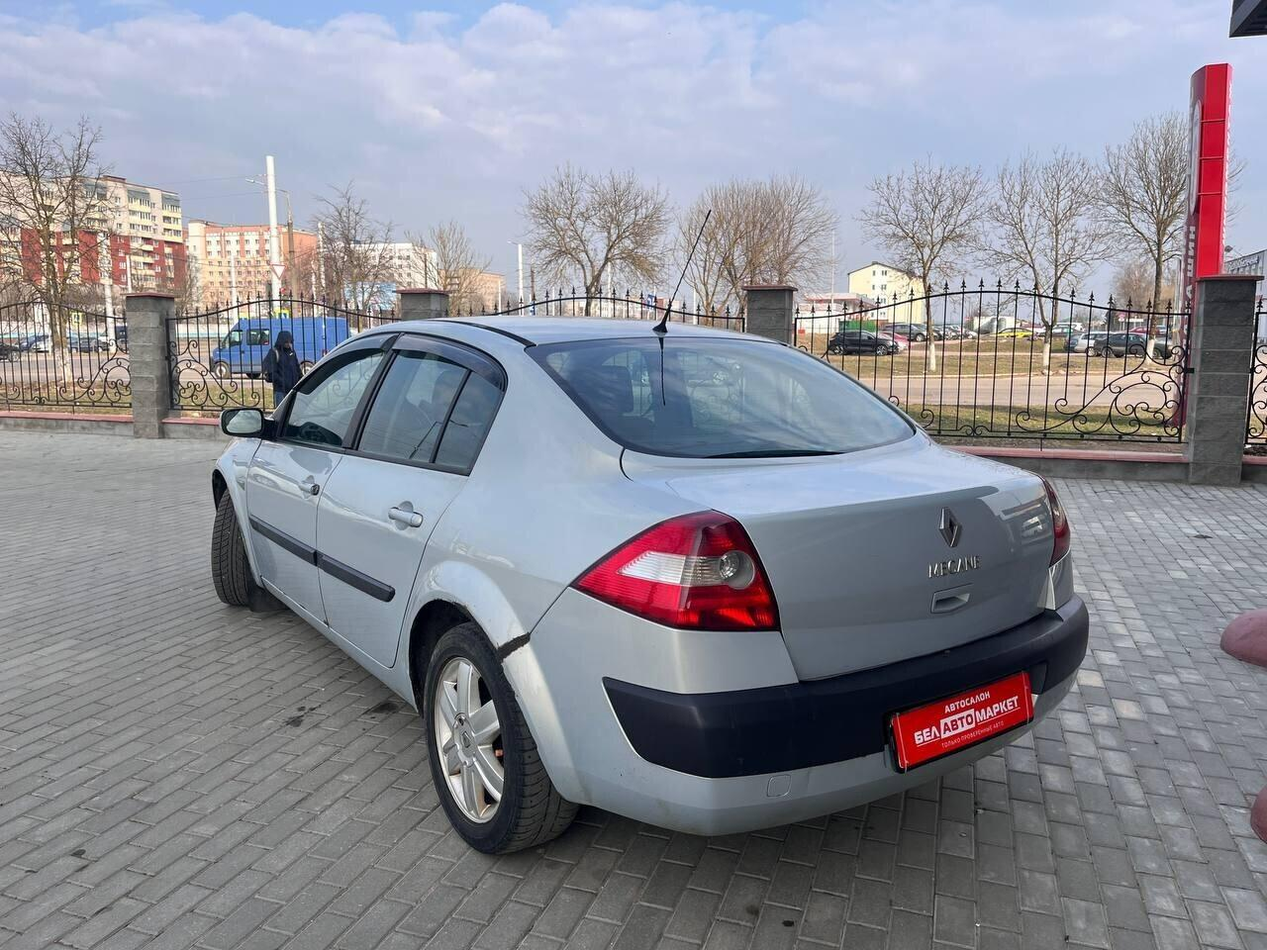Megane_2002-2006: (205, 312, 1095, 860)
